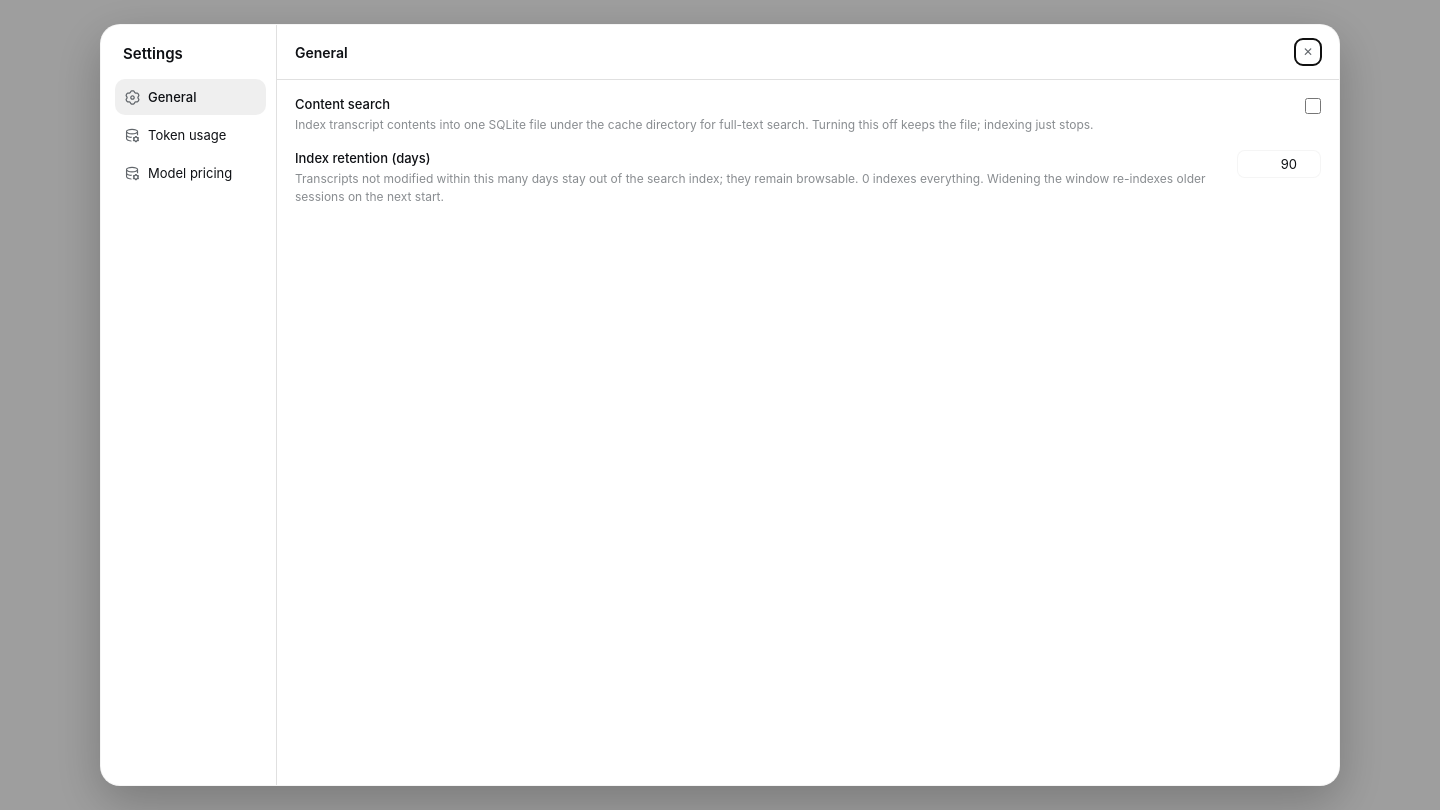
Test: SettingsDialog › warns when the toggle is on but the index could not be opened
Click the checkbox named "Content search" at (1313, 106), box [1305,98,1321,114]
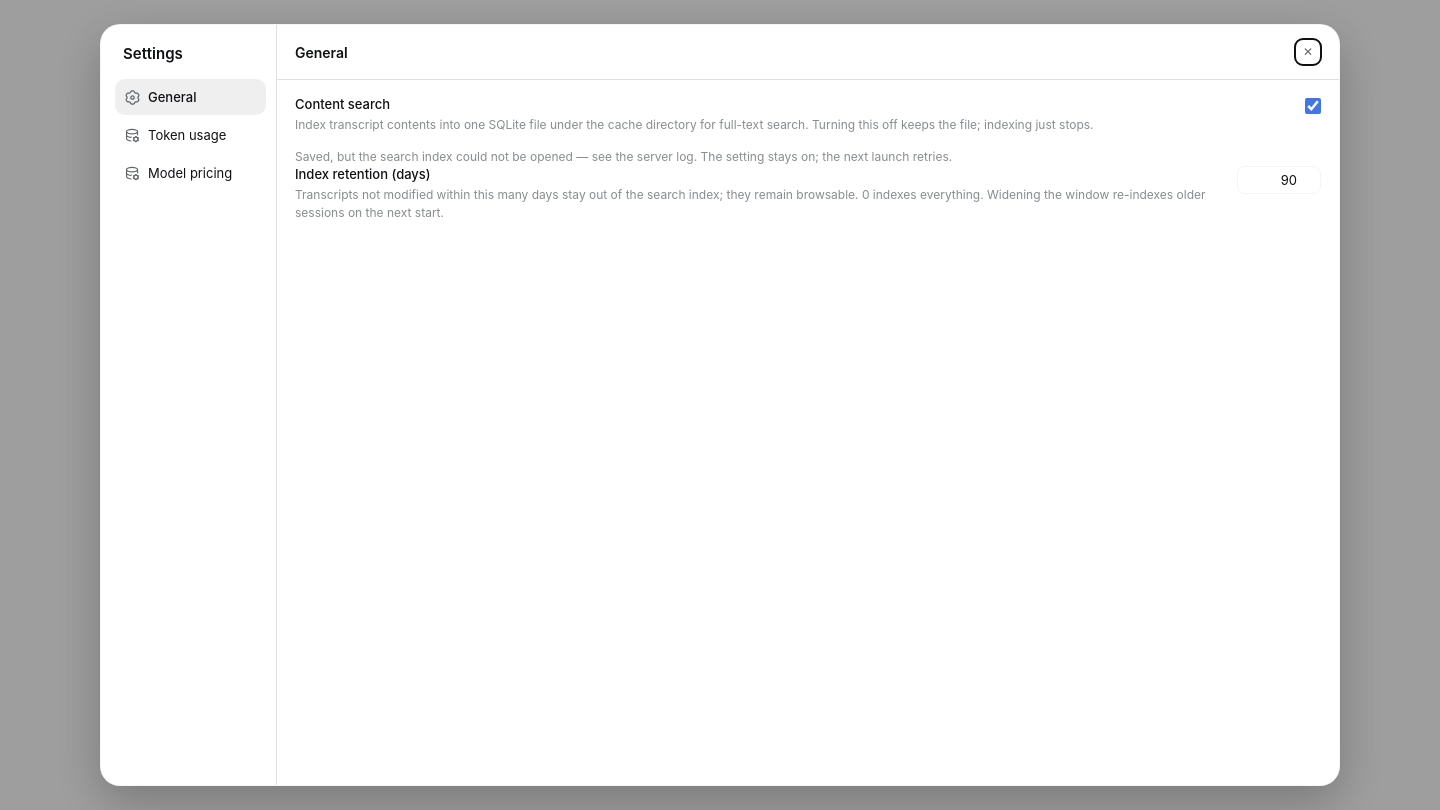
expect the checkbox named "Content search" is checked: met, box [1305,98,1321,114]
expect the text "could not be opened" is shown: met, box [295,149,952,164]
